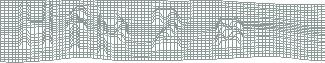2: (150, 7, 185, 53)
H: (18, 1, 53, 50)
f: (63, 4, 90, 52)
p: (97, 12, 130, 57)
s: (213, 17, 246, 50)
